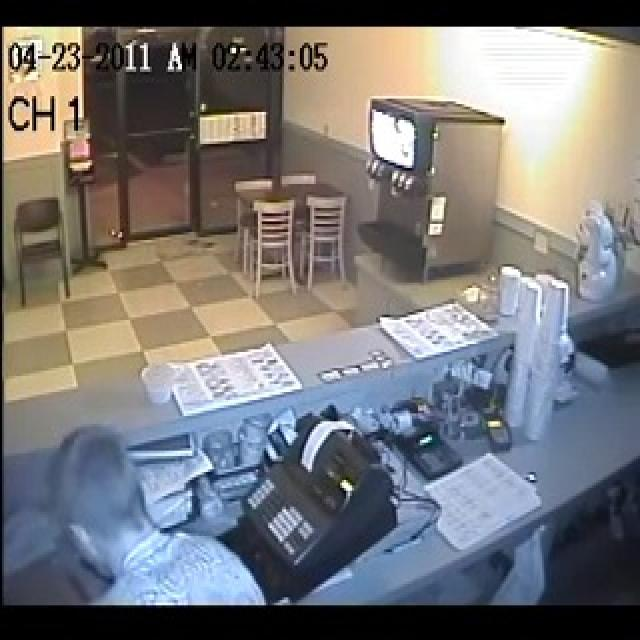thief: (36, 422, 279, 602)
